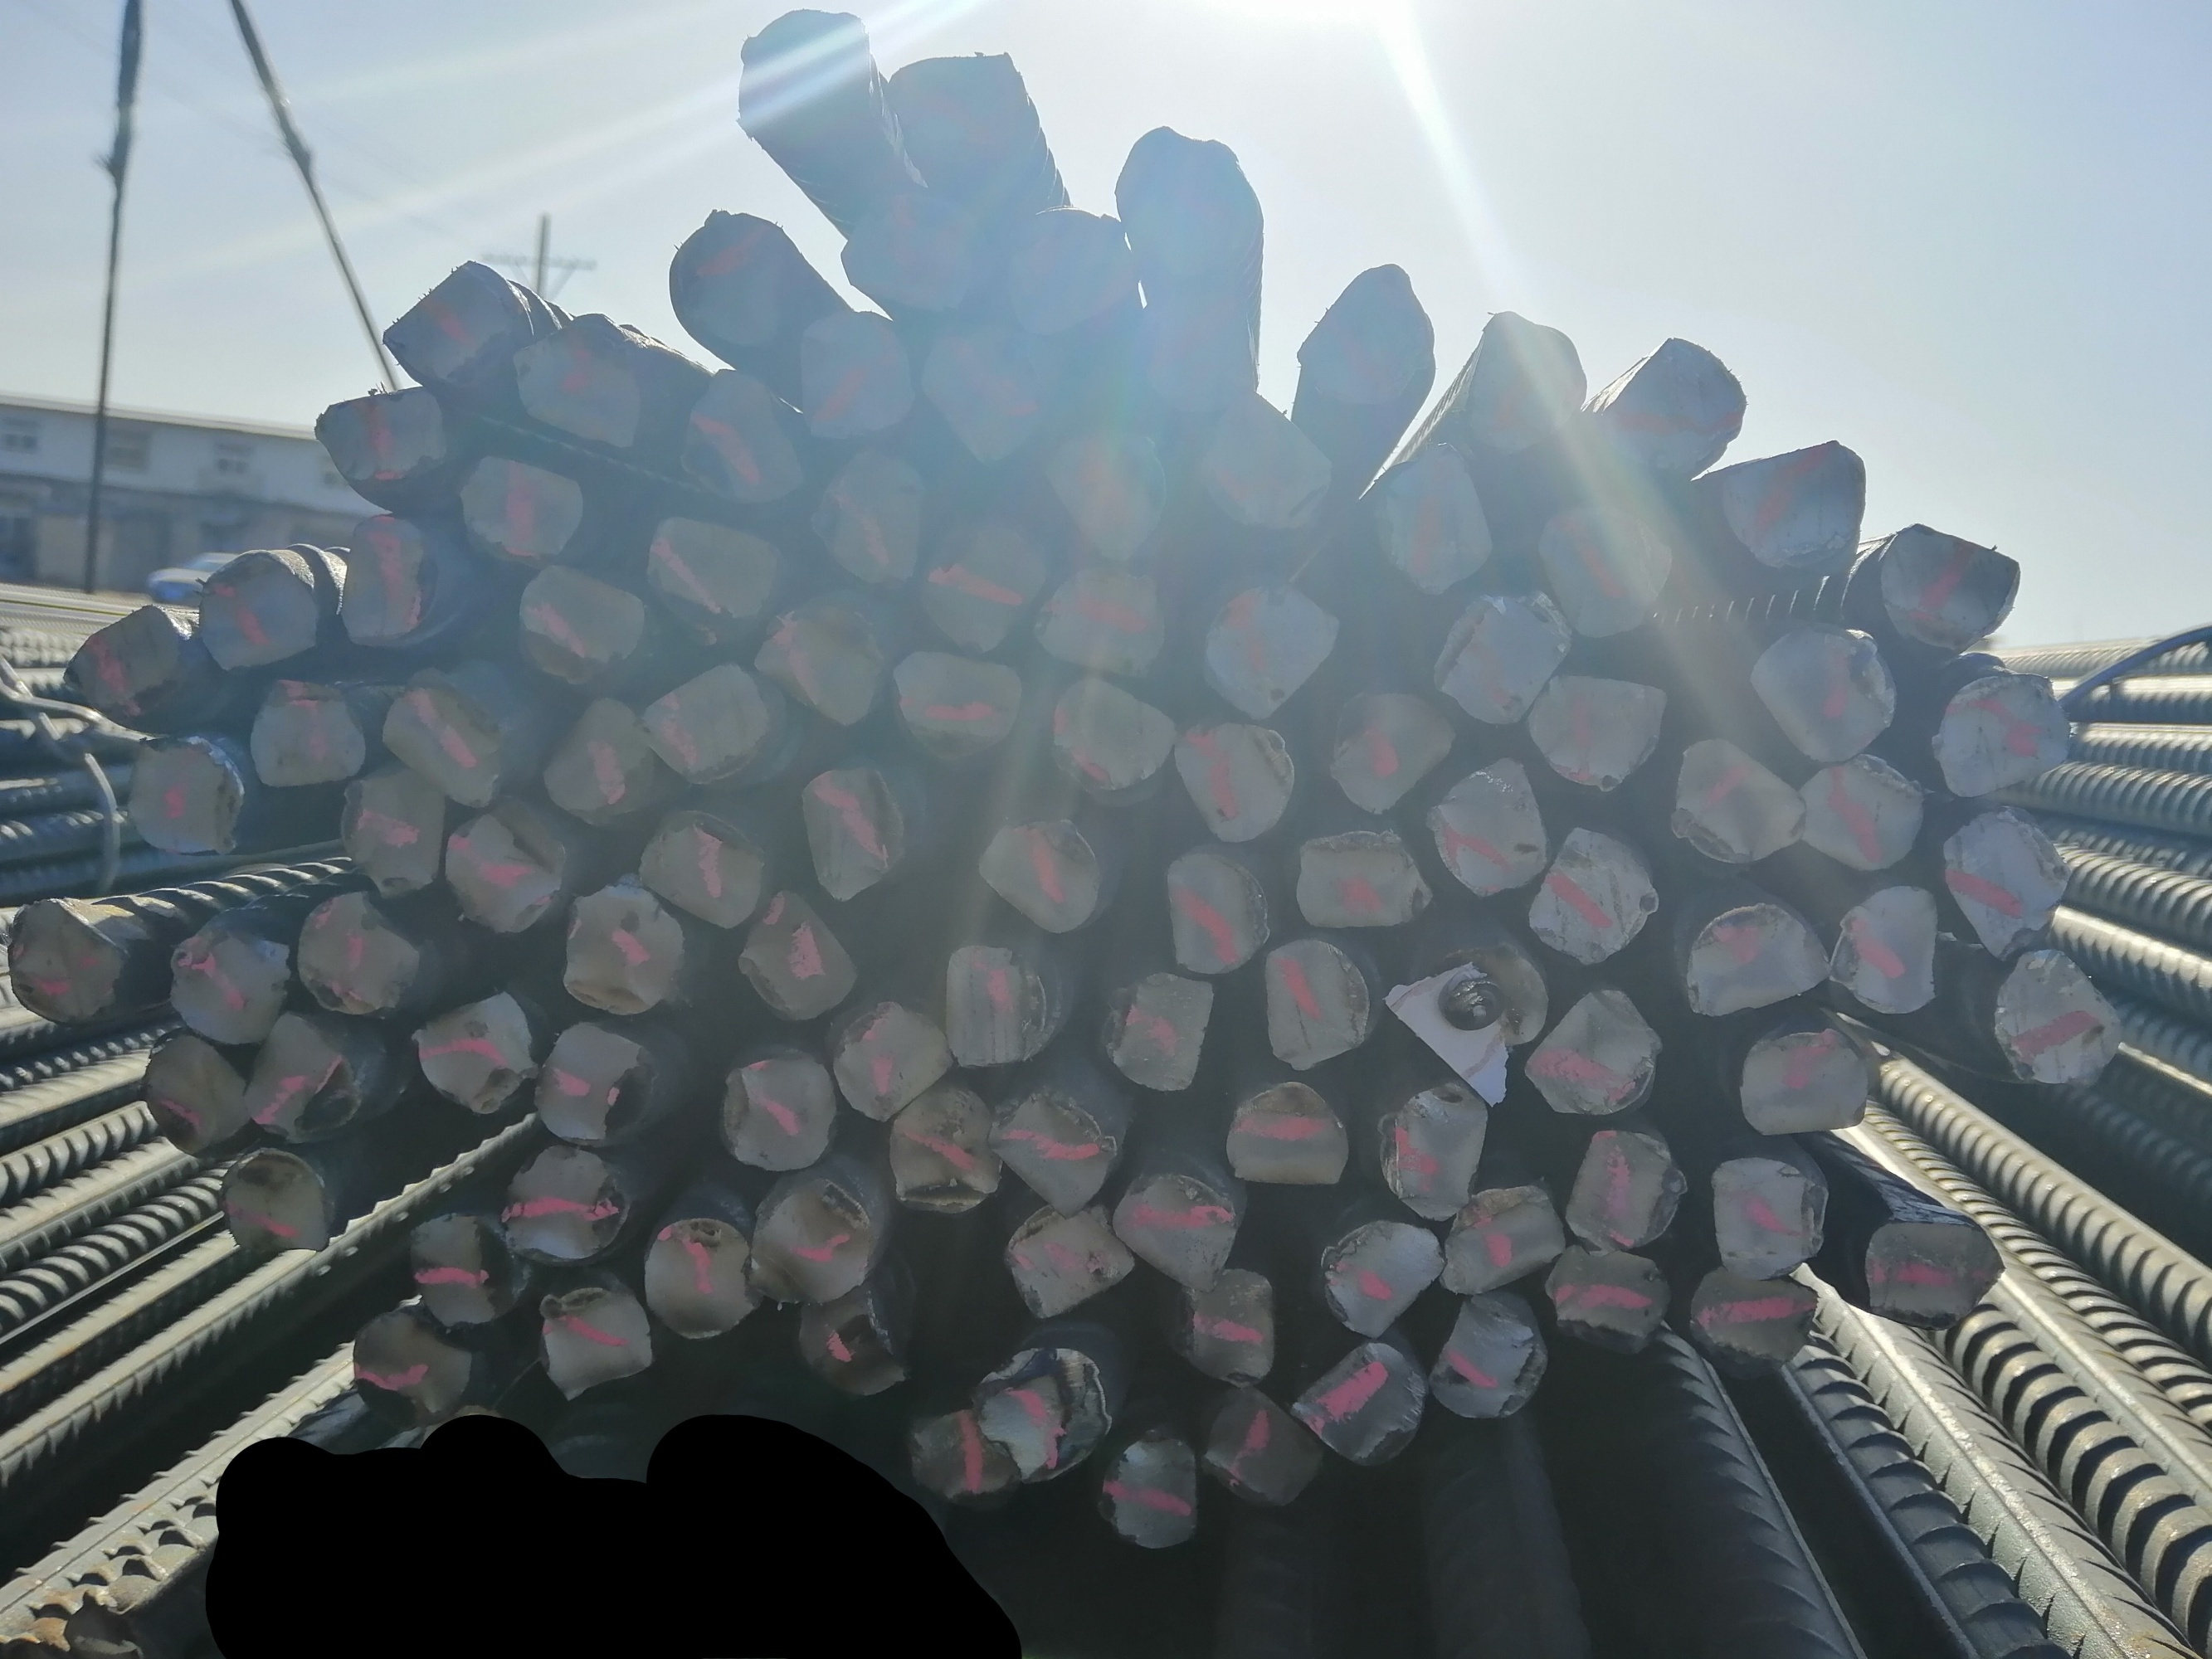rebar: (1706, 429, 1874, 582), (1102, 124, 1267, 277), (1192, 566, 1349, 725), (1295, 256, 1440, 423), (1530, 497, 1677, 657), (1865, 514, 2027, 657), (1602, 324, 1750, 477), (375, 246, 530, 385), (922, 303, 1062, 458), (1518, 985, 1661, 1133), (1292, 1328, 1435, 1476), (734, 5, 875, 155), (1752, 624, 1903, 763), (1457, 303, 1590, 462), (666, 209, 811, 354), (1367, 434, 1497, 592), (1044, 422, 1185, 568), (964, 1342, 1114, 1480), (1931, 809, 2073, 953), (680, 361, 811, 516), (438, 793, 577, 936), (840, 178, 985, 315), (1123, 288, 1271, 422), (1002, 192, 1138, 336), (889, 44, 1035, 178), (1198, 390, 1335, 532), (1663, 739, 1808, 873), (1677, 892, 1829, 1019), (1860, 1209, 2012, 1337), (1433, 587, 1572, 725), (1520, 666, 1670, 793), (188, 544, 328, 680), (643, 507, 788, 638), (992, 1188, 1138, 1317), (1701, 1148, 1837, 1286), (1525, 823, 1659, 962), (823, 986, 955, 1127), (1999, 938, 2120, 1093), (1428, 753, 1555, 899), (748, 1178, 884, 1314), (969, 807, 1103, 945), (286, 890, 424, 1023), (1931, 674, 2073, 803), (1192, 1382, 1333, 1511), (880, 1072, 1004, 1218), (519, 1019, 654, 1154), (560, 882, 689, 1021), (378, 669, 506, 810), (411, 986, 544, 1121), (983, 1084, 1117, 1216), (1313, 1209, 1449, 1340), (1417, 1295, 1548, 1431), (753, 598, 885, 730), (917, 519, 1048, 653), (1035, 552, 1171, 681), (521, 317, 647, 457), (164, 906, 288, 1047), (1794, 748, 1924, 880), (1823, 882, 1949, 1019), (1103, 1161, 1243, 1284), (1328, 688, 1457, 821), (713, 1042, 842, 1175), (1684, 1262, 1822, 1385), (335, 758, 457, 897), (303, 378, 446, 497), (784, 310, 913, 441), (1173, 718, 1300, 849), (68, 596, 193, 728), (1740, 1016, 1877, 1136), (1381, 1072, 1487, 1227), (889, 640, 1030, 756), (633, 1216, 762, 1344), (1093, 964, 1220, 1093), (1262, 929, 1375, 1073), (347, 1312, 481, 1434), (535, 1274, 655, 1408), (5, 892, 124, 1028), (403, 1215, 532, 1338), (736, 889, 858, 1019), (1046, 678, 1177, 800), (812, 444, 924, 587), (800, 758, 912, 901), (1290, 824, 1433, 936), (929, 936, 1041, 1077), (504, 1136, 626, 1265), (640, 664, 769, 786), (537, 692, 659, 821), (457, 443, 587, 563), (1419, 934, 1550, 1054), (896, 1399, 1034, 1513), (242, 1002, 352, 1141), (516, 559, 645, 678), (1438, 1180, 1565, 1298), (1224, 1079, 1358, 1190), (1569, 1122, 1687, 1248), (126, 735, 248, 856), (1157, 849, 1274, 974), (1093, 1425, 1204, 1556), (248, 673, 370, 791), (213, 1154, 336, 1270), (1537, 1244, 1673, 1349), (793, 1276, 910, 1396), (641, 814, 769, 924), (136, 1030, 246, 1155), (345, 505, 438, 652), (1168, 1270, 1283, 1382)
